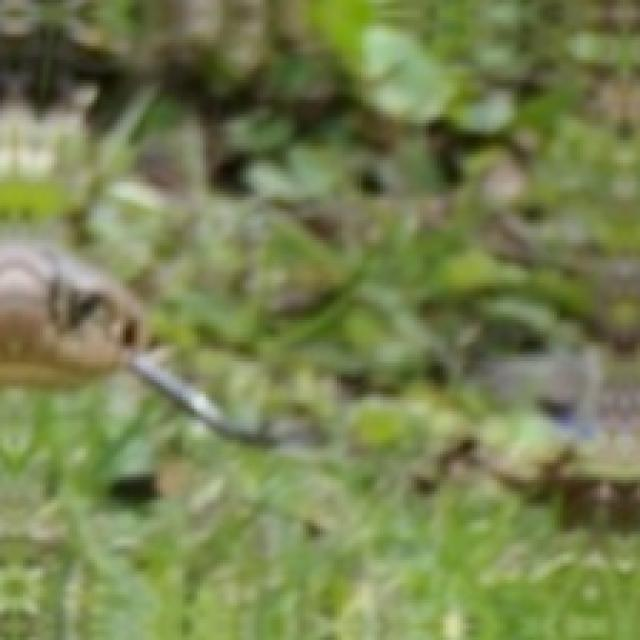king cobra: (0, 240, 314, 443)
